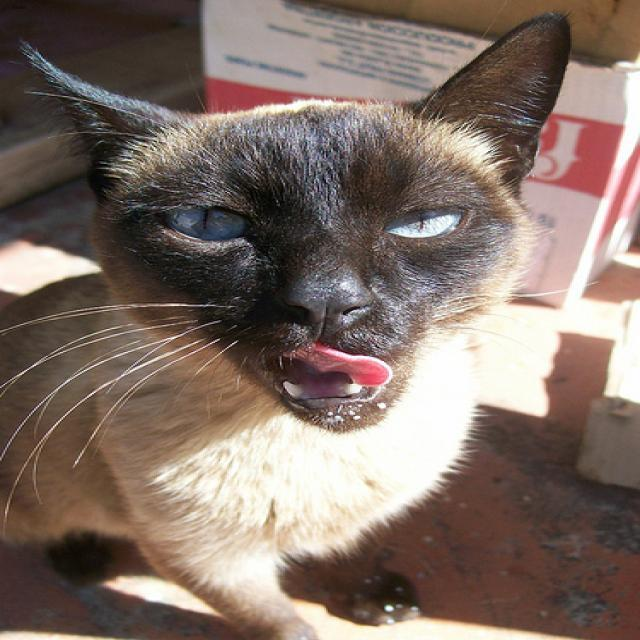Siamese: (11, 12, 569, 436)
